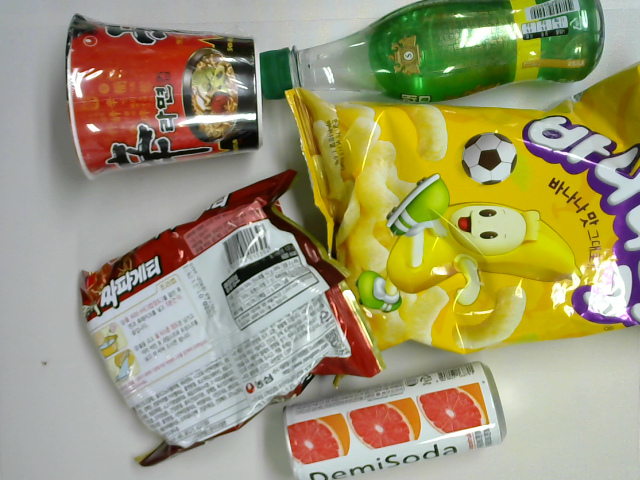Banana_Kick: (283, 59, 640, 393)
Demisoda_Grapefruit_Can_250ml: (279, 360, 511, 480)
Seagram_Lemon_Carbonated_Water: (258, 1, 605, 118)
Sichuan_Chapaghetti: (79, 164, 386, 469)
Sinramen_small: (58, 12, 266, 184)
